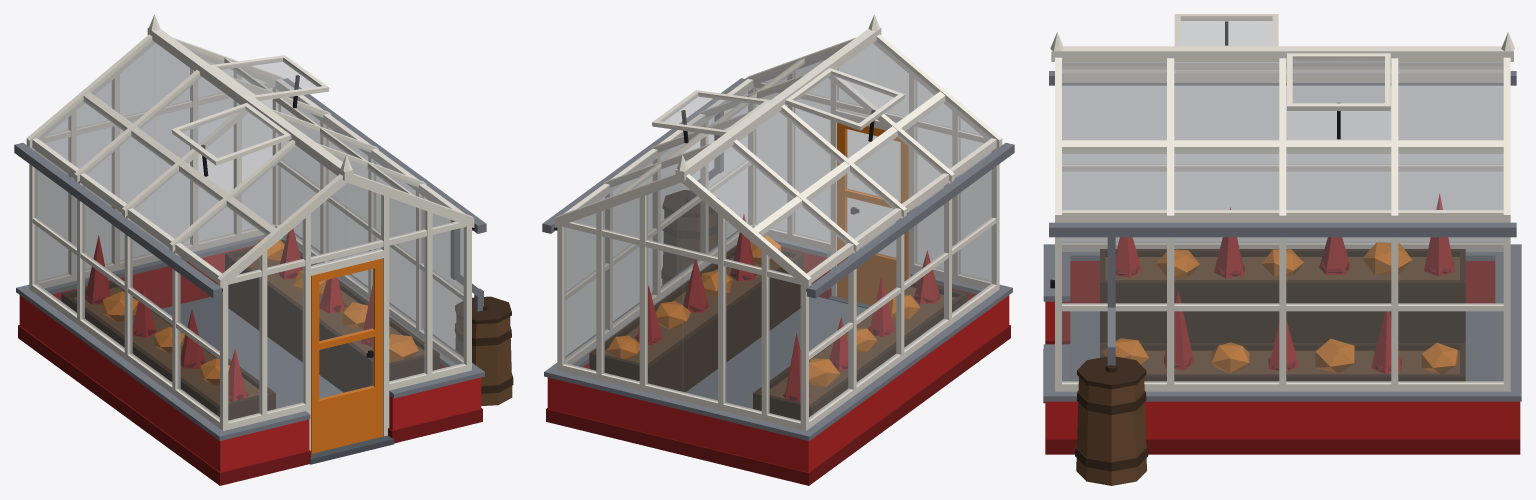
File: greenhouse.glb
3 renders of one model, left to right at view 1: azimuth 30°, elevation 25°; view 2: azimuth 150°, elevation 25°; view 3: azimuth 270°, elevation 25°, orthographic. The views are drawn at different scales.
Visible parts, largest first — view 1: glass_tar_grey_light, frame_warm_white, base_brick_red, beds_dark_wood, door_sunset_orange, base_mid_grey, door_tar_grey_light, gutters_mid_grey, base_brick_red_dark, base_tar_grey, beds_brick_red, beds_water_tower_brown (+9 smaller); view 2: glass_tar_grey_light, frame_warm_white, base_brick_red, beds_dark_wood, base_mid_grey, base_brick_red_dark, base_tar_grey, gutters_mid_grey, beds_water_tower_brown, beds_brick_red, door_sunset_orange, door_tar_grey_light (+8 smaller); view 3: glass_tar_grey_light, frame_warm_white, beds_dark_wood, base_brick_red, gutters_mid_grey, base_mid_grey, beds_water_tower_brown, base_brick_red_dark, beds_sunset_orange, beds_brick_red, water_butt_water_tower_brown, vent_east_tar_grey_light (+6 smaller).
Part boxes in pixels (bbox=[...]): glass_tar_grey_light: bbox=[34, 41, 464, 421]; frame_warm_white: bbox=[26, 14, 474, 450]; base_brick_red: bbox=[19, 245, 481, 472]; beds_dark_wood: bbox=[61, 239, 439, 420]; door_sunset_orange: bbox=[311, 258, 382, 453]; base_mid_grey: bbox=[16, 223, 484, 440]; door_tar_grey_light: bbox=[319, 269, 373, 399]; gutters_mid_grey: bbox=[14, 78, 486, 311]; base_brick_red_dark: bbox=[18, 293, 482, 485]; base_tar_grey: bbox=[162, 297, 342, 408]; beds_brick_red: bbox=[85, 229, 372, 401]; beds_water_tower_brown: bbox=[73, 256, 424, 404]; glass_tar_grey_light: bbox=[564, 41, 994, 421]; frame_warm_white: bbox=[554, 14, 1002, 430]; base_brick_red: bbox=[547, 247, 1009, 472]; beds_dark_wood: bbox=[589, 246, 967, 420]; base_mid_grey: bbox=[544, 223, 1012, 440]; base_brick_red_dark: bbox=[546, 288, 1010, 485]; base_tar_grey: bbox=[686, 297, 866, 408]; gutters_mid_grey: bbox=[542, 78, 1014, 298]; beds_water_tower_brown: bbox=[604, 256, 955, 404]; beds_brick_red: bbox=[637, 214, 939, 401]; door_sunset_orange: bbox=[837, 122, 908, 305]; door_tar_grey_light: bbox=[846, 129, 900, 258]; glass_tar_grey_light: bbox=[1062, 62, 1503, 382]; frame_warm_white: bbox=[1050, 32, 1515, 391]; beds_dark_wood: bbox=[1100, 249, 1465, 381]; base_brick_red: bbox=[1046, 261, 1518, 438]; gutters_mid_grey: bbox=[1049, 71, 1516, 365]; base_mid_grey: bbox=[1043, 244, 1521, 401]; beds_water_tower_brown: bbox=[1105, 257, 1459, 374]; base_brick_red_dark: bbox=[1045, 301, 1520, 454]; beds_sunset_orange: bbox=[1102, 242, 1457, 373]; beds_brick_red: bbox=[1115, 193, 1454, 373]; water_butt_water_tower_brown: bbox=[1076, 377, 1146, 485]; vent_east_tar_grey_light: bbox=[1293, 58, 1384, 102].
Bounding box in the file's own units: 3.72 × 3.25 × 4.06.
